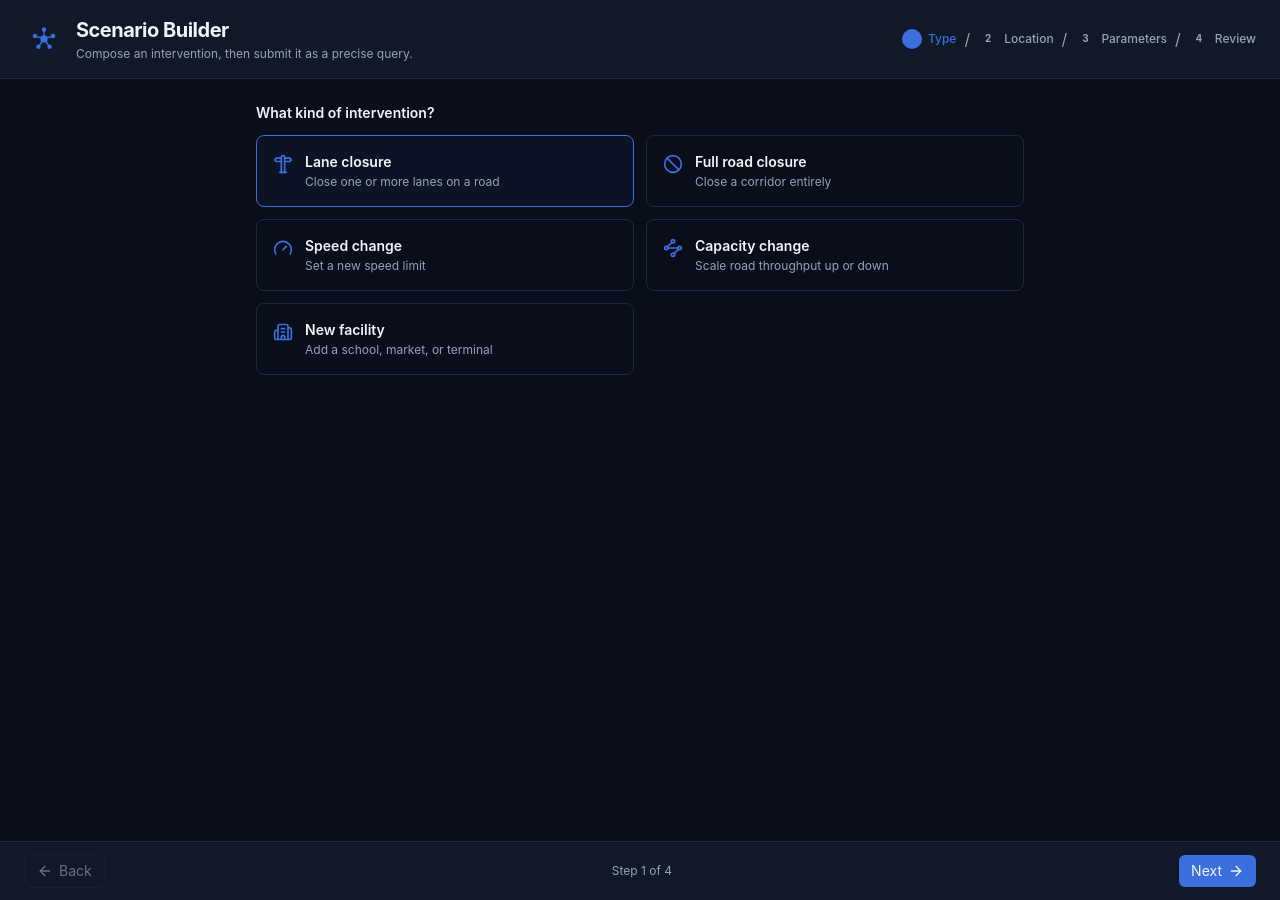
ScenarioBuilder › requires a location before advancing past the Location step
The width and height of the screenshot is (1280, 900).
Click the button "Next": (1218, 871) [1179,855,1256,887]
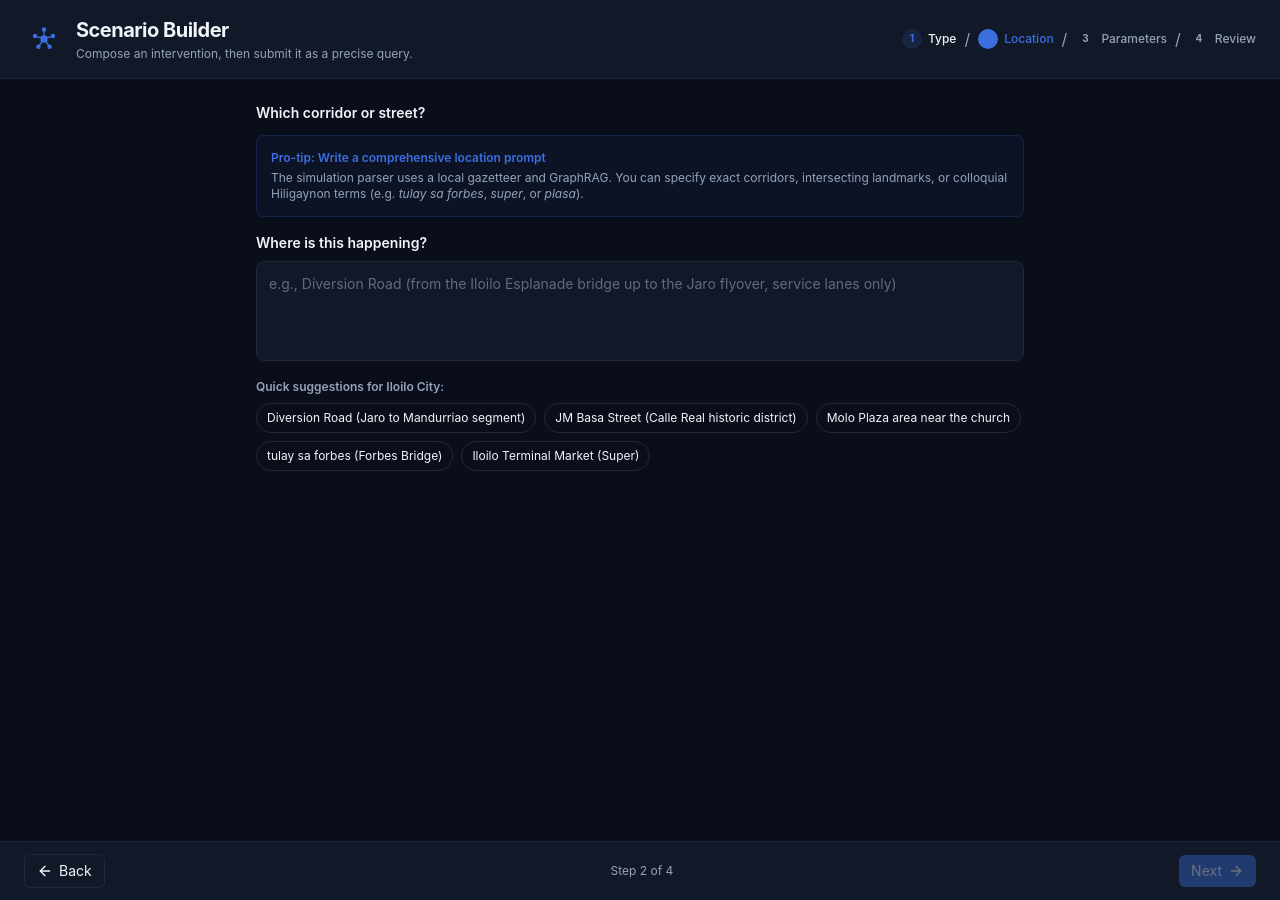
Result: the button "Next" is disabled at [1179,855,1256,887]
Replace the text in the text box labelled "Where is this happening?" with "Diversion Road": (640, 311) [256,261,1024,361]
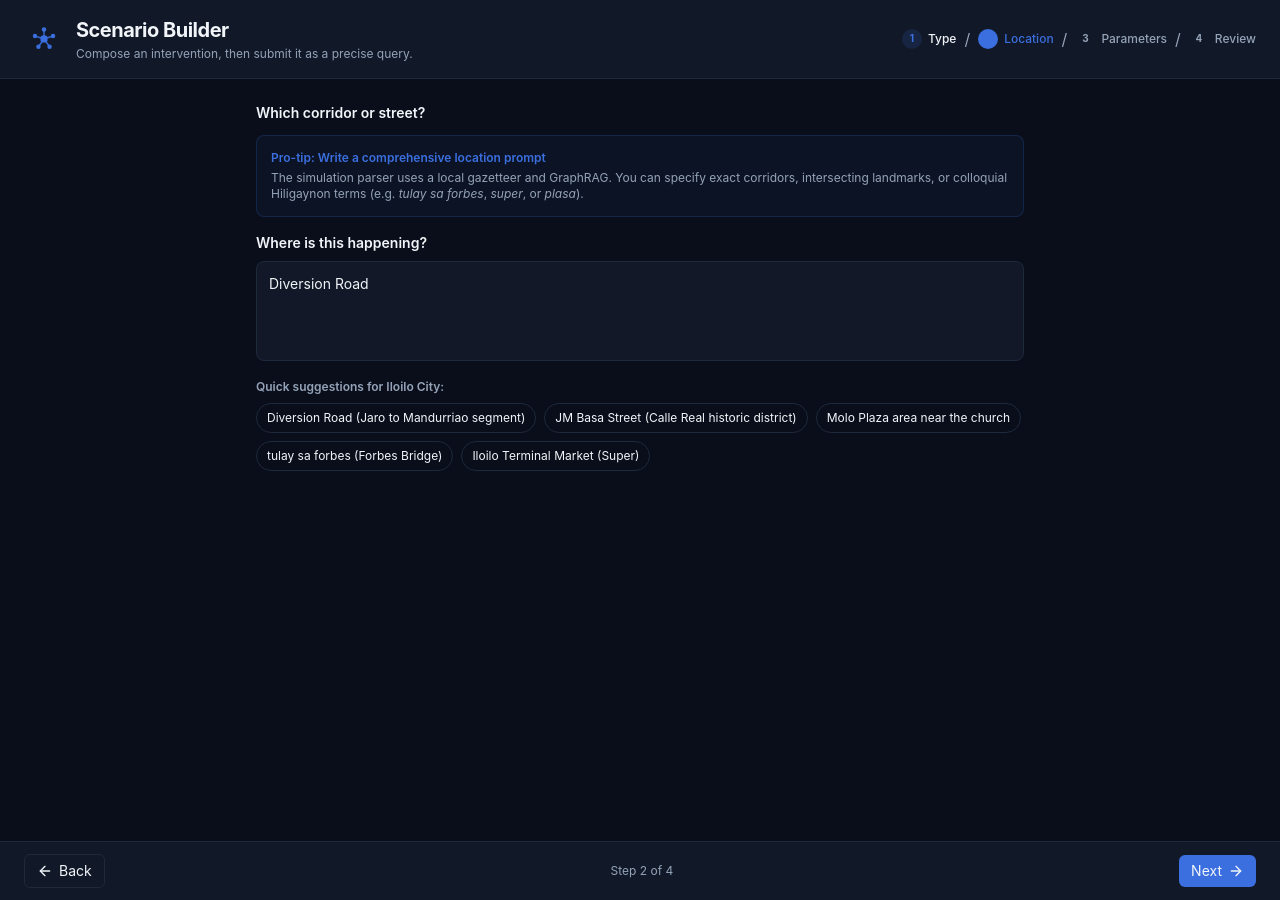
Result: the button "Next" is enabled at [1179,855,1256,887]
